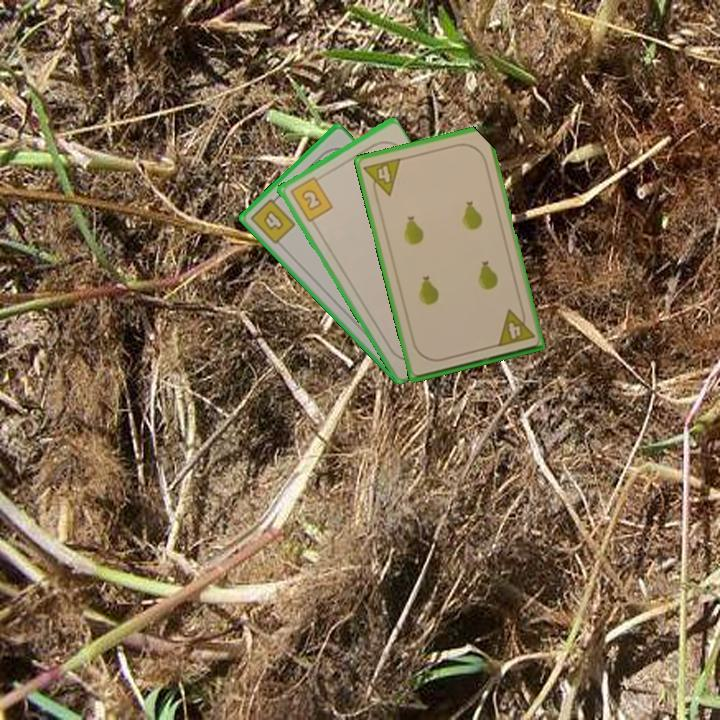2b: (286, 172, 335, 224)
4b: (247, 191, 298, 247)
4p: (360, 154, 404, 201), (493, 304, 537, 350)
